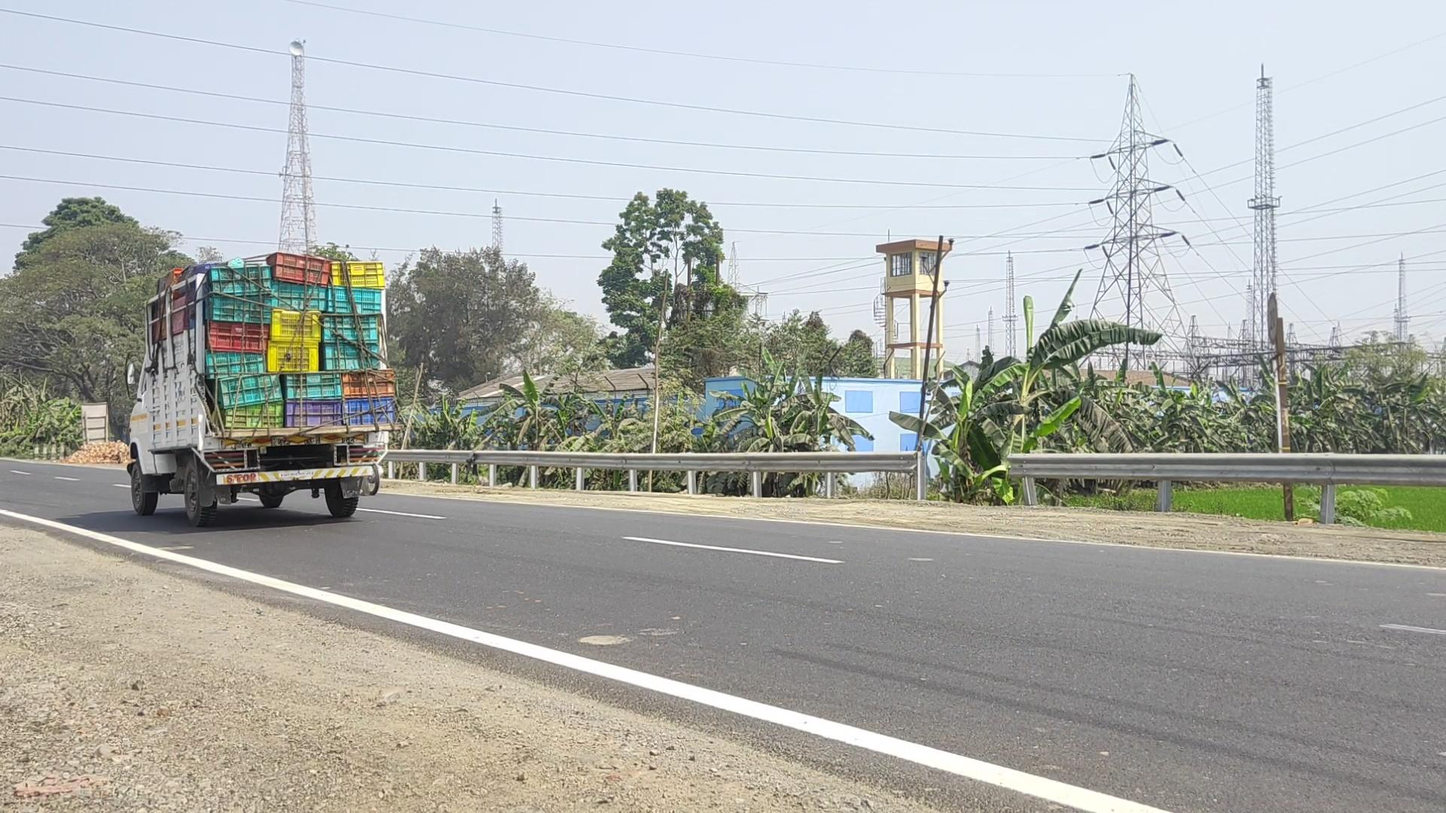truck: (127, 252, 397, 529)
